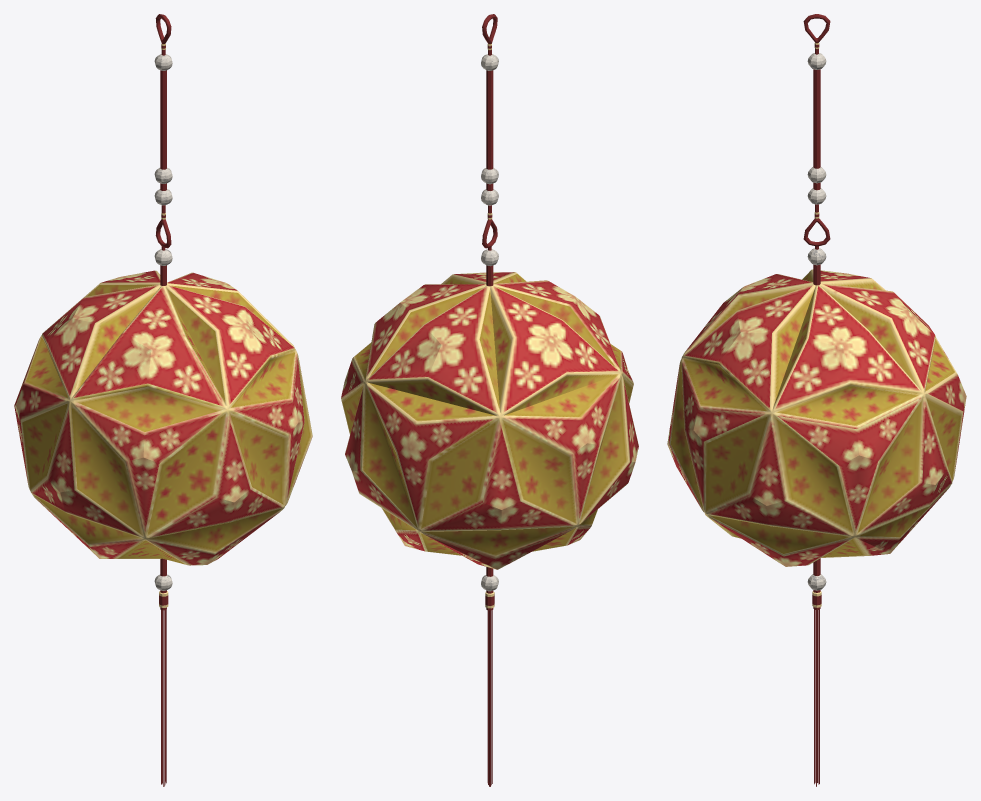
File: LanternModel.fbx
3 views of the same model, side by side, from view 1: azimuth 30°, elevation 25°; view 2: azimuth 150°, elevation 25°; view 3: azimuth 270°, elevation 25° (orthographic).
Visible parts, largest first — view 1: pPlatonic1, MASH1_ReproMesh, pSphere3, pSphere5; view 2: pPlatonic1, MASH1_ReproMesh, pSphere3; view 3: pPlatonic1, MASH1_ReproMesh, pSphere3, pSphere5.
Boxes of the visible parts, x1,y1,x2,y2 form: pPlatonic1: (14, 270, 312, 565); MASH1_ReproMesh: (161, 610, 166, 786); pSphere3: (154, 71, 172, 183); pSphere5: (154, 558, 172, 610); pPlatonic1: (341, 272, 638, 569); MASH1_ReproMesh: (487, 610, 492, 786); pSphere3: (481, 71, 498, 184); pPlatonic1: (667, 269, 966, 566); MASH1_ReproMesh: (814, 609, 819, 786); pSphere3: (807, 70, 826, 183); pSphere5: (807, 558, 826, 609).
Bounding box in the file's own units: 55.82 × 161 × 56.44.
